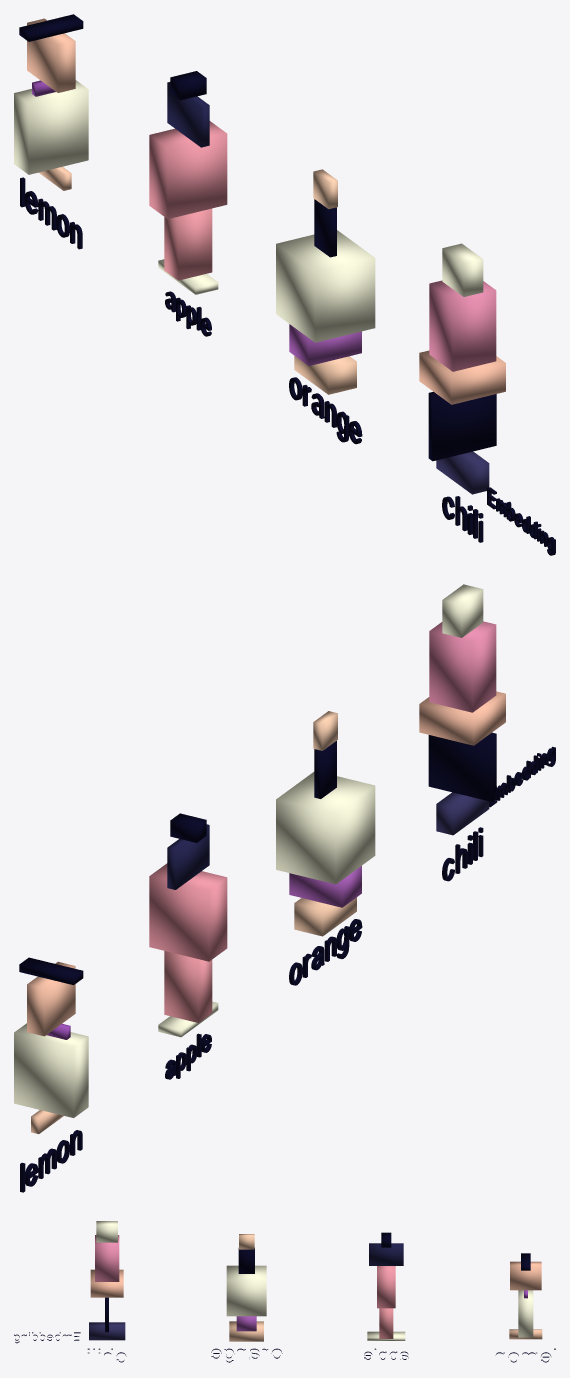
File: food-embeddings.gltf
3 renders of one model, top to bottom at view 1: azimuth 30°, elevation 25°; view 2: azimuth 150°, elevation 25°; view 3: azimuth 270°, elevation 25°, orthographic. The views are drawn at different scales.
Parts seen in each view (by area): view 1: Renderer Node; view 2: Renderer Node; view 3: Renderer Node.
Part boxes in pixels (<box>): Renderer Node: <box>14,14,555,555</box>; Renderer Node: <box>14,584,555,1192</box>; Renderer Node: <box>14,1221,555,1362</box>.
Size of the model in its own units: 0.9454 by 3.88 by 13.59.
